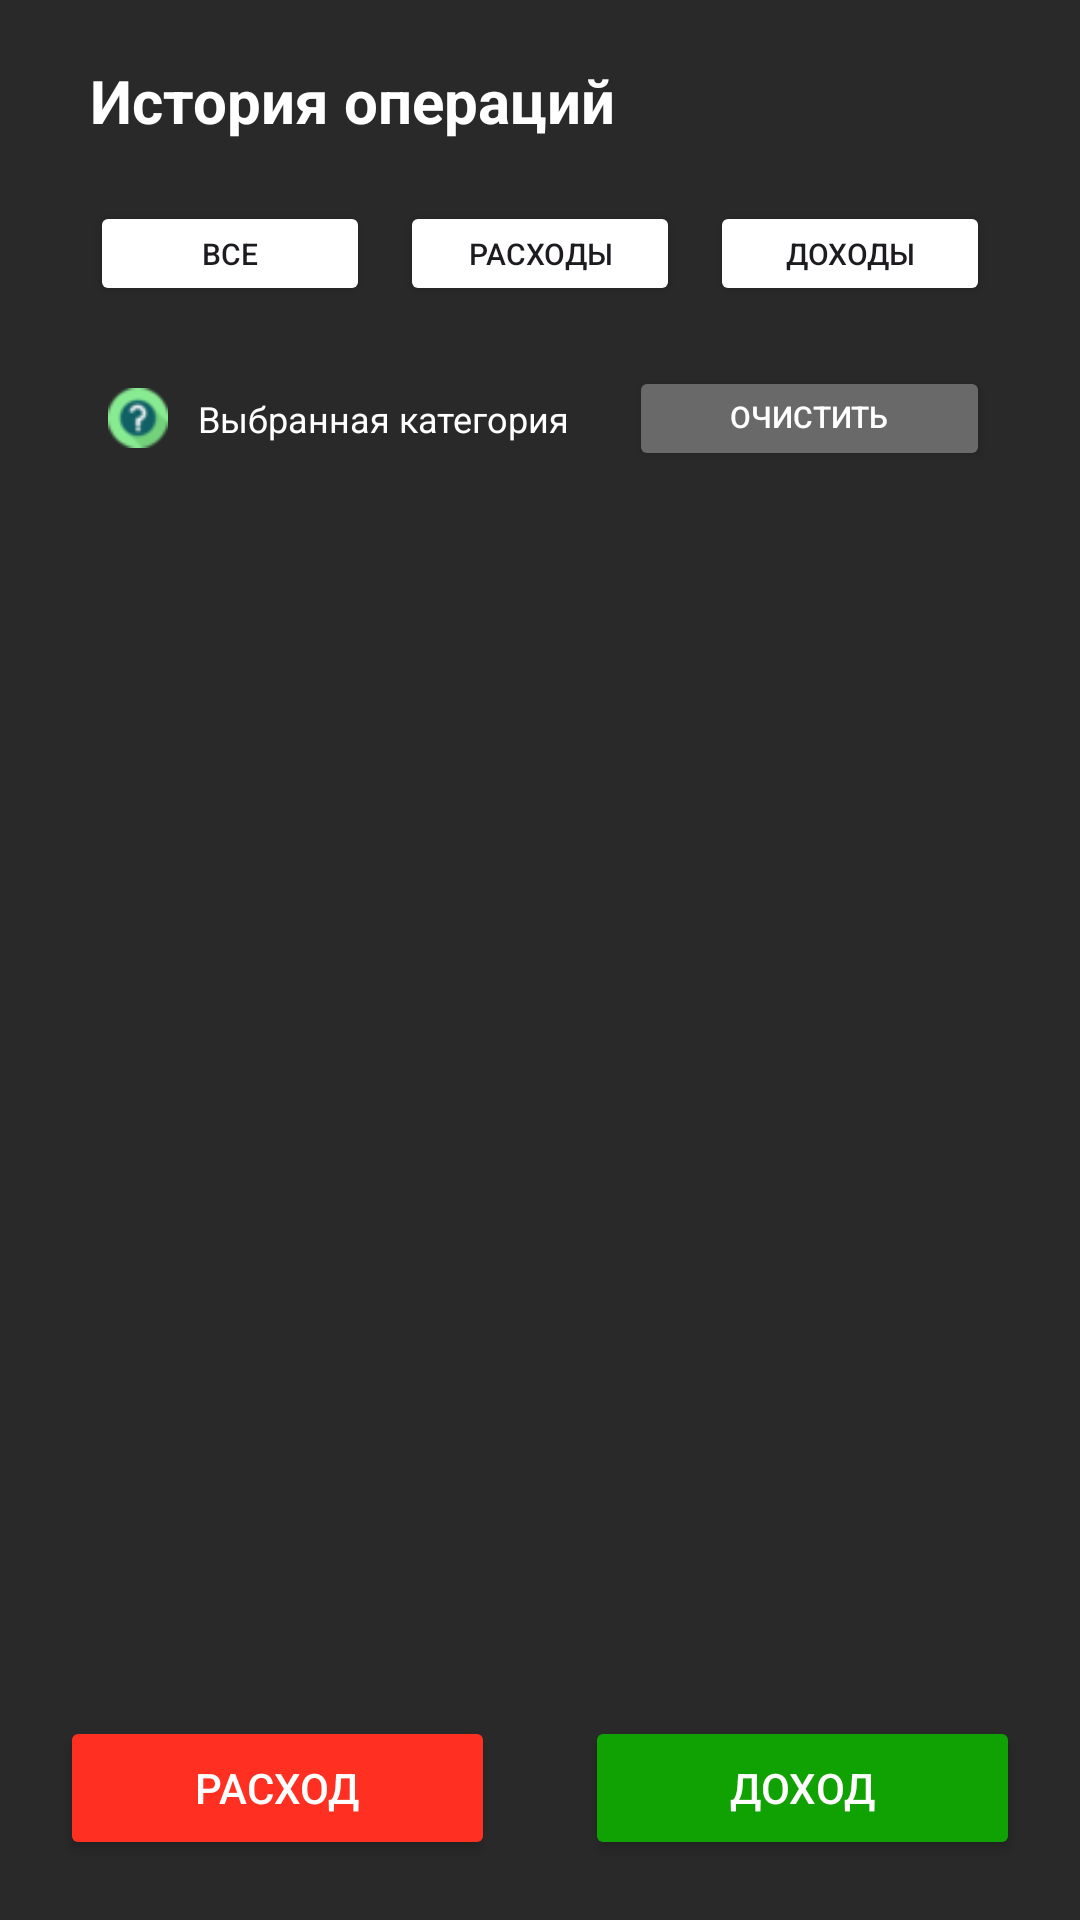

Point at icon controls on the screen. Image size 1080x1920, points as [x,y].
question mark: [138,418]
